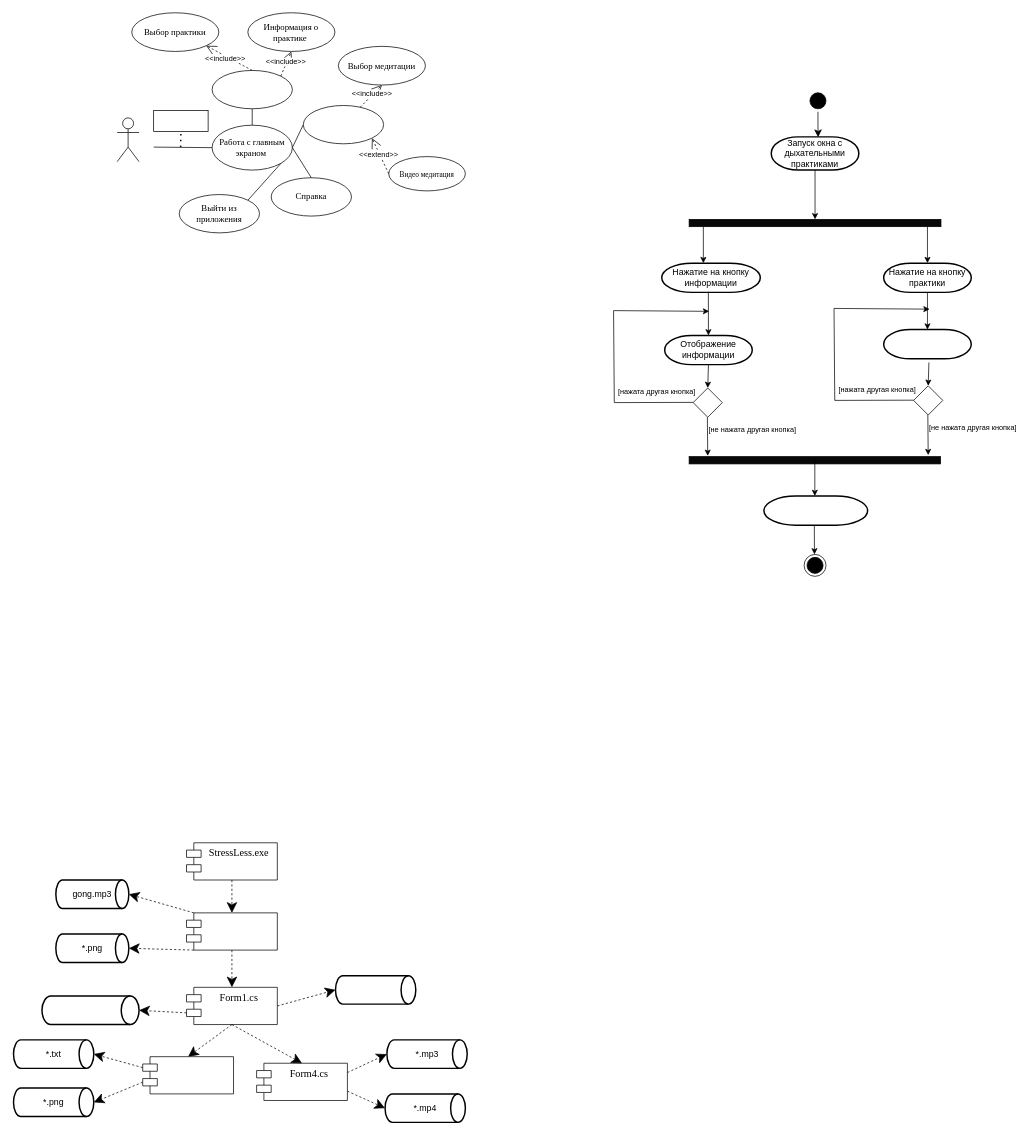
This 1035x1136 diagram has some shape labels left out. The centre of each missing label's shape, as x and y in pixels:
aquarium.gif: (90,1010)
Form2.cs: (231,931)
Form3.cs: (188,1075)
Help.chm: (375,989)
Возврат на главный экран: (815,510)
Доступна после загрузки: (180,120)
Дыхательные практики: (251,89)
Медитация и релакс: (343,124)
Отображение практики: (927,343)
Пользователь: (127,139)
